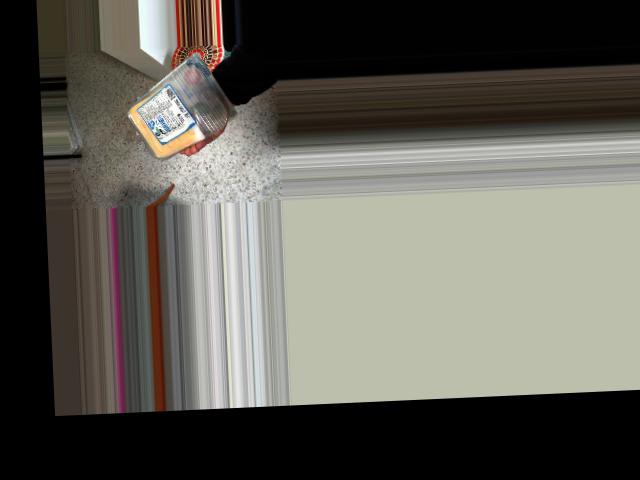cheese: (120, 61, 223, 147)
